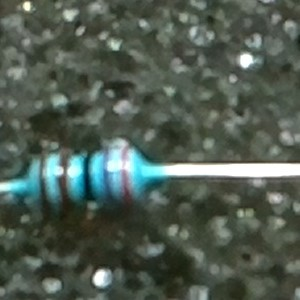black_band: (81, 148, 98, 205)
brown_band: (56, 147, 74, 209), (37, 149, 52, 210)
red_band: (118, 143, 136, 207)
violet_band: (100, 147, 117, 204)
